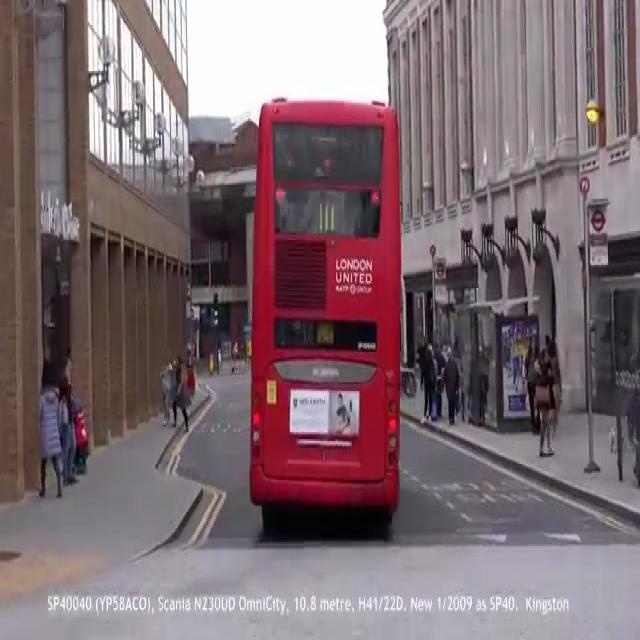Bus: (244, 93, 404, 535)
